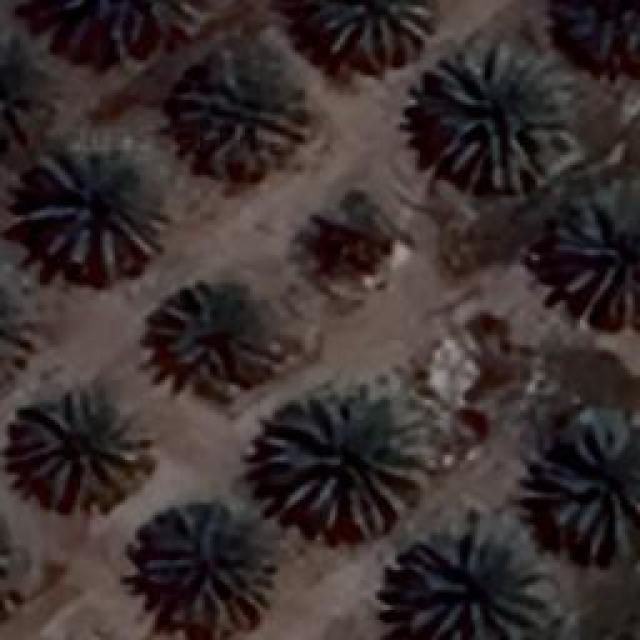PalmTree: (260, 395, 425, 540), (422, 40, 568, 198), (28, 138, 162, 278), (400, 522, 558, 636), (140, 502, 275, 630), (12, 390, 152, 512), (178, 55, 308, 175), (534, 417, 638, 565), (150, 280, 280, 382), (550, 182, 638, 320), (41, 0, 201, 58), (309, 0, 432, 62), (560, 0, 640, 85), (0, 28, 47, 150), (0, 270, 47, 392), (0, 512, 47, 634)
